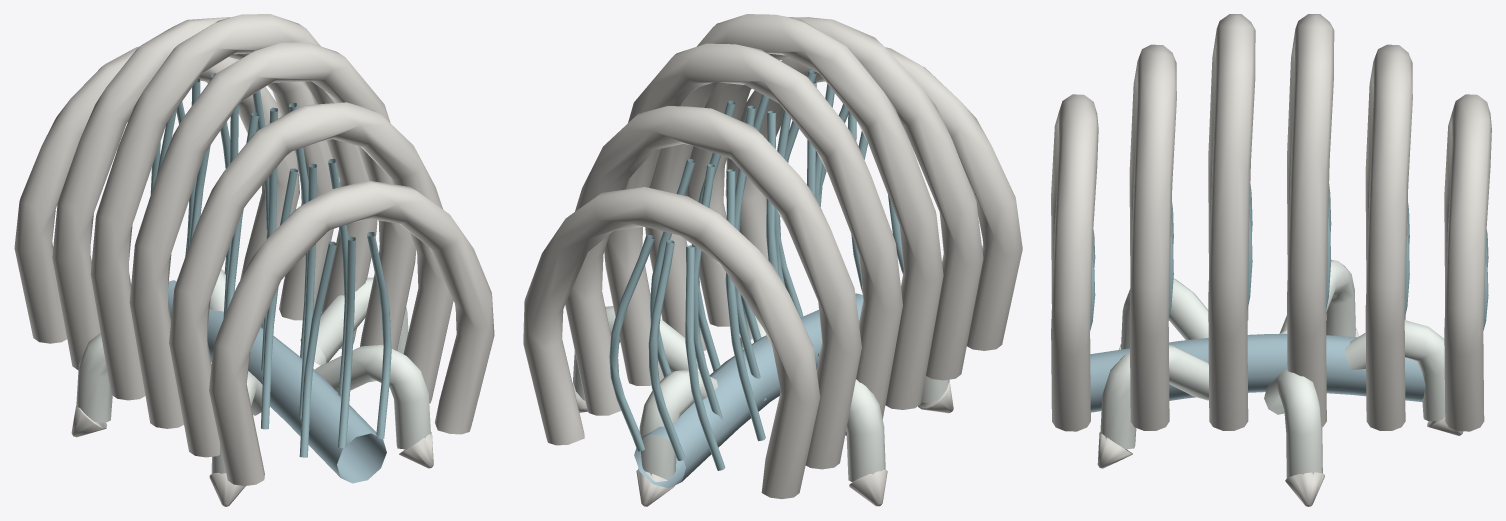
File: bio_blind_harp_08_far.glb
3 renders of one model, left to right at view 1: azimuth 30°, elevation 25°; view 2: azimuth 150°, elevation 25°; view 3: azimuth 270°, elevation 25°, orthographic. The views are drawn at different scales.
Visible parts, largest first — view 1: Open rib arch, Open rib arch.002, Open rib arch.001, Open rib arch.003, Open rib arch.004, Open rib arch.005, Low axial spine, Resonance filament, Crooked support.003, Resonance filament.003, Resonance filament.006, Crooked support.004 (+7 smaller); view 2: Open rib arch.005, Open rib arch.004, Open rib arch.003, Open rib arch.002, Open rib arch.001, Open rib arch, Low axial spine, Resonance filament.015, Resonance filament.012, Crooked support, Resonance filament.009, Crooked support.001 (+6 smaller); view 3: Open rib arch.002, Open rib arch.004, Open rib arch.001, Open rib arch.003, Open rib arch, Open rib arch.005, Low axial spine, Crooked support.004, Crooked support.003, Crooked support, Crooked support.002, Crooked support.001 (+2 smaller).
Boxes of the visible parts, x1,y1,x2,y2 form: Open rib arch: (209, 180, 494, 485); Open rib arch.002: (129, 42, 416, 428); Open rib arch.001: (169, 102, 453, 457); Open rib arch.003: (90, 14, 377, 400); Open rib arch.004: (52, 17, 333, 369); Open rib arch.005: (14, 46, 299, 343); Low axial spine: (168, 280, 386, 483); Resonance filament: (299, 232, 391, 457); Crooked support.003: (315, 345, 430, 449); Resonance filament.003: (261, 159, 348, 429); Resonance filament.006: (225, 103, 308, 370); Crooked support.004: (300, 277, 408, 365); Open rib arch.005: (523, 187, 820, 499); Open rib arch.004: (565, 106, 861, 469); Open rib arch.003: (604, 43, 902, 435); Open rib arch.002: (645, 14, 943, 409); Open rib arch.001: (685, 17, 983, 380); Open rib arch: (725, 47, 1022, 350); Low axial spine: (634, 293, 863, 488); Resonance filament.015: (609, 235, 725, 470); Resonance filament.012: (650, 159, 765, 441); Crooked support: (638, 369, 717, 479); Resonance filament.009: (691, 100, 778, 400); Crooked support.001: (846, 379, 885, 481); Open rib arch.002: (1208, 14, 1255, 430); Open rib arch.004: (1365, 44, 1412, 430); Open rib arch.001: (1129, 44, 1176, 430); Open rib arch.003: (1287, 14, 1334, 427); Open rib arch: (1051, 94, 1098, 431); Open rib arch.005: (1444, 94, 1491, 431); Low axial spine: (1090, 334, 1425, 412); Crooked support.004: (1264, 369, 1322, 478); Crooked support.003: (1100, 345, 1208, 449); Crooked support: (1345, 320, 1445, 421); Crooked support.002: (1121, 278, 1208, 349); Crooked support.001: (1279, 259, 1355, 336).
Bounding box in the file's own units: 1.91 × 2.27 × 2.27.
